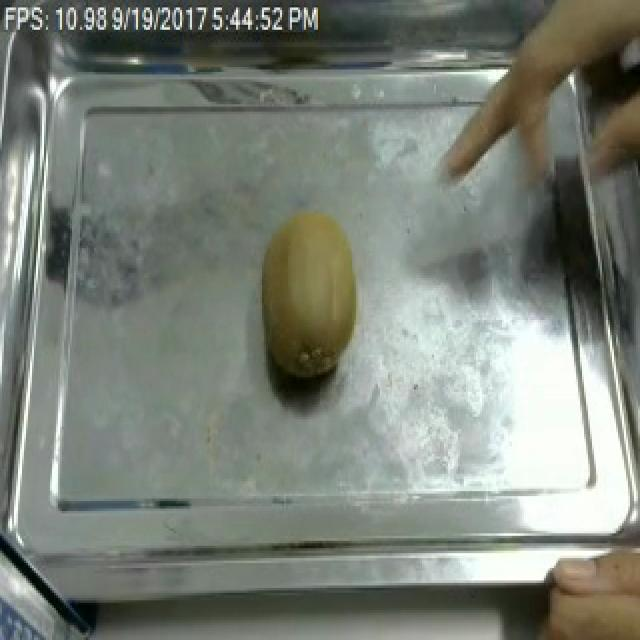Fruit: (250, 203, 368, 390)
